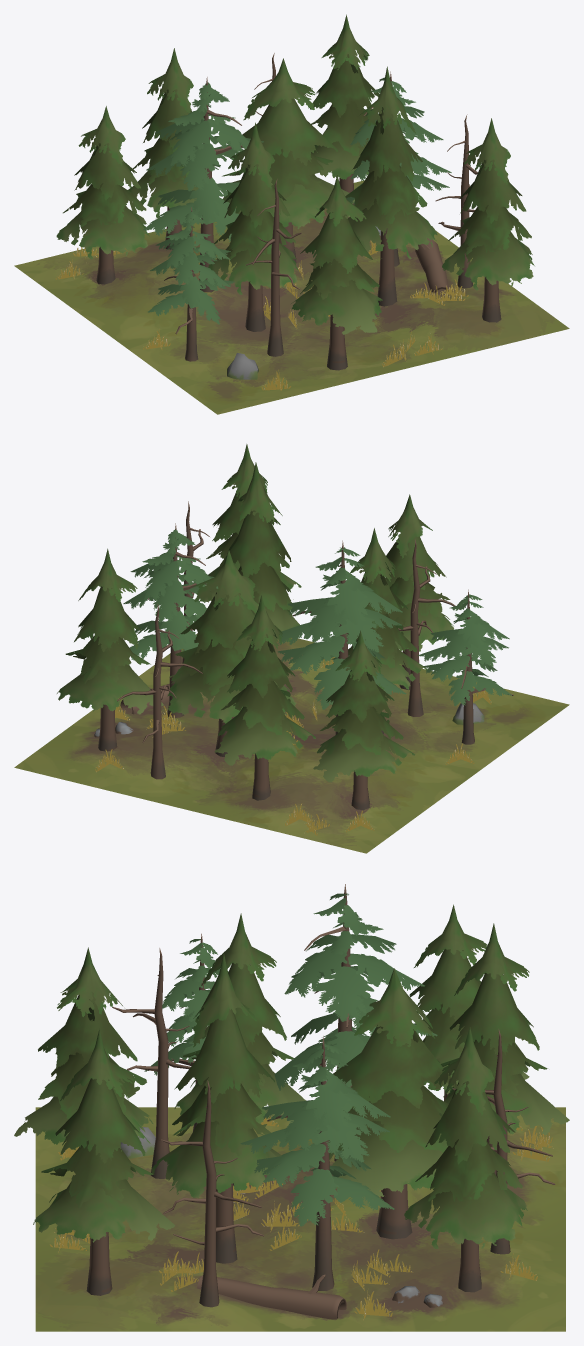
File: Forest_Tile.fbx
3 views of the same model, one above another, from view 1: azimuth 30°, elevation 25°; view 2: azimuth 150°, elevation 25°; view 3: azimuth 270°, elevation 25° (orthographic). The views are drawn at different scales.
Visible parts, largest first — view 1: ForestTile_1; view 2: ForestTile_1; view 3: ForestTile_1.
Boxes of the visible parts, <box> form: ForestTile_1: <box>14,14,569,414</box>; ForestTile_1: <box>14,444,569,853</box>; ForestTile_1: <box>14,884,569,1331</box>.
Bounding box in the file's own units: 103 × 66.53 × 105.
